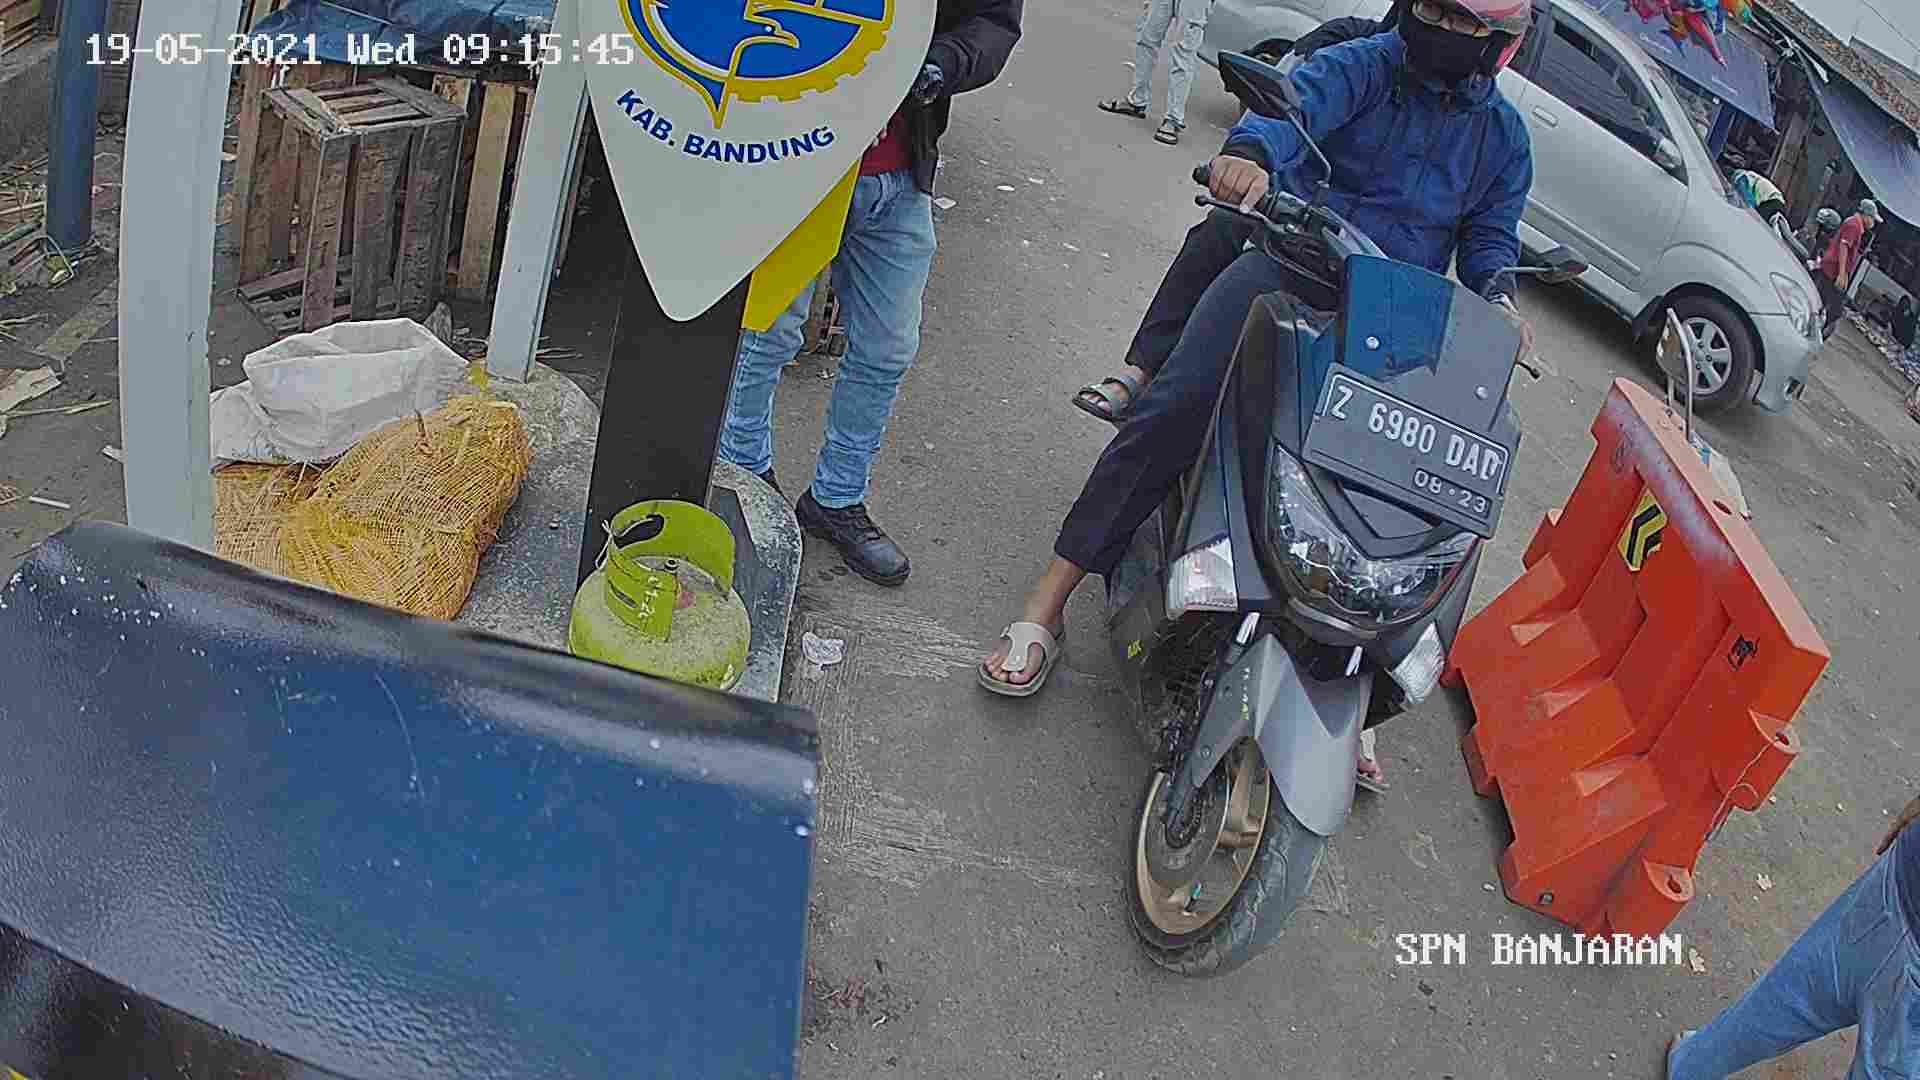motor: (1101, 153, 1510, 967)
